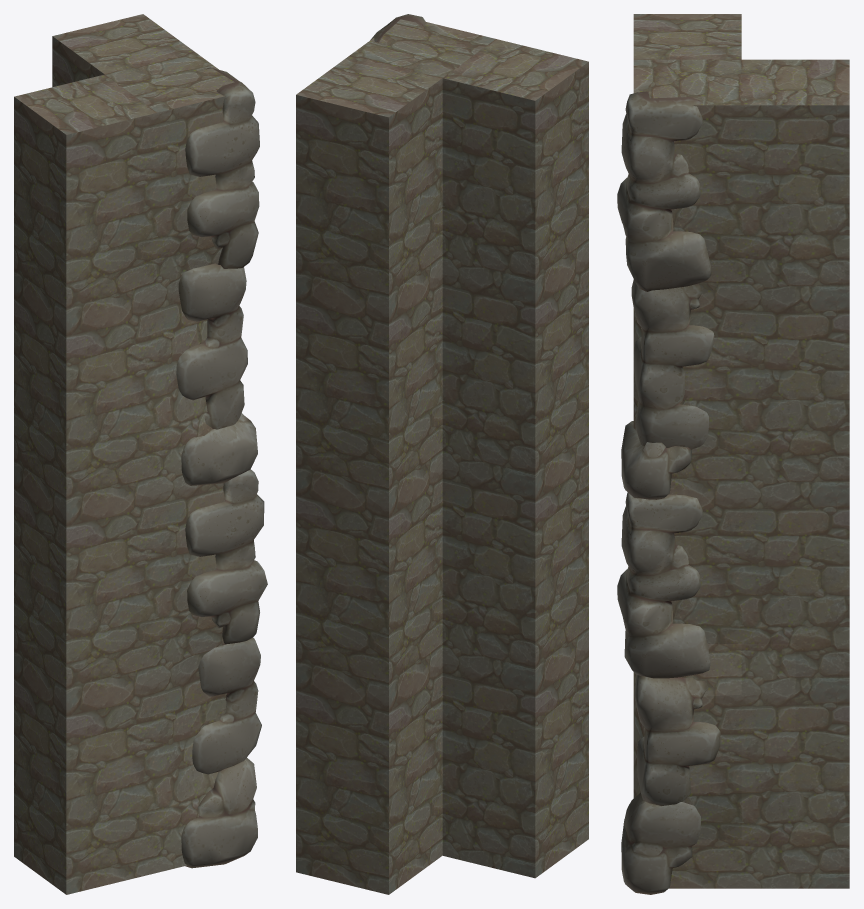
The model's file is MSH_fwOF_Ruins_Wall_Corner_Tall.fbx.
The picture shows the model from 3 angles, left to right: view 1: azimuth 30°, elevation 25°; view 2: azimuth 150°, elevation 25°; view 3: azimuth 270°, elevation 25°; orthographic projection. The views are drawn at different scales.
Visible parts, largest first — view 1: MSH_fwOF_Ruins_Wall_Corner_Tall_Base, MSH_fwOF_Ruins_Wall_Corner_Tall_LOD0; view 2: MSH_fwOF_Ruins_Wall_Corner_Tall_Base; view 3: MSH_fwOF_Ruins_Wall_Corner_Tall_Base, MSH_fwOF_Ruins_Wall_Corner_Tall_LOD0.
Part boxes in pixels (box(x1,y1,x2,y2)): MSH_fwOF_Ruins_Wall_Corner_Tall_Base: box(14, 14, 234, 894); MSH_fwOF_Ruins_Wall_Corner_Tall_LOD0: box(176, 67, 267, 868); MSH_fwOF_Ruins_Wall_Corner_Tall_Base: box(296, 19, 588, 894); MSH_fwOF_Ruins_Wall_Corner_Tall_Base: box(633, 14, 849, 888); MSH_fwOF_Ruins_Wall_Corner_Tall_LOD0: box(617, 92, 720, 894).
Size of what is drawn, in the model's own units: 2.24 by 8.14 by 2.15.
